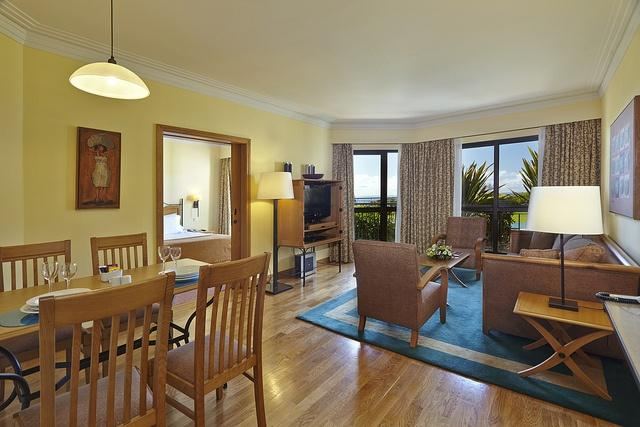Kursi: (13, 270, 175, 426), (163, 249, 271, 426)
